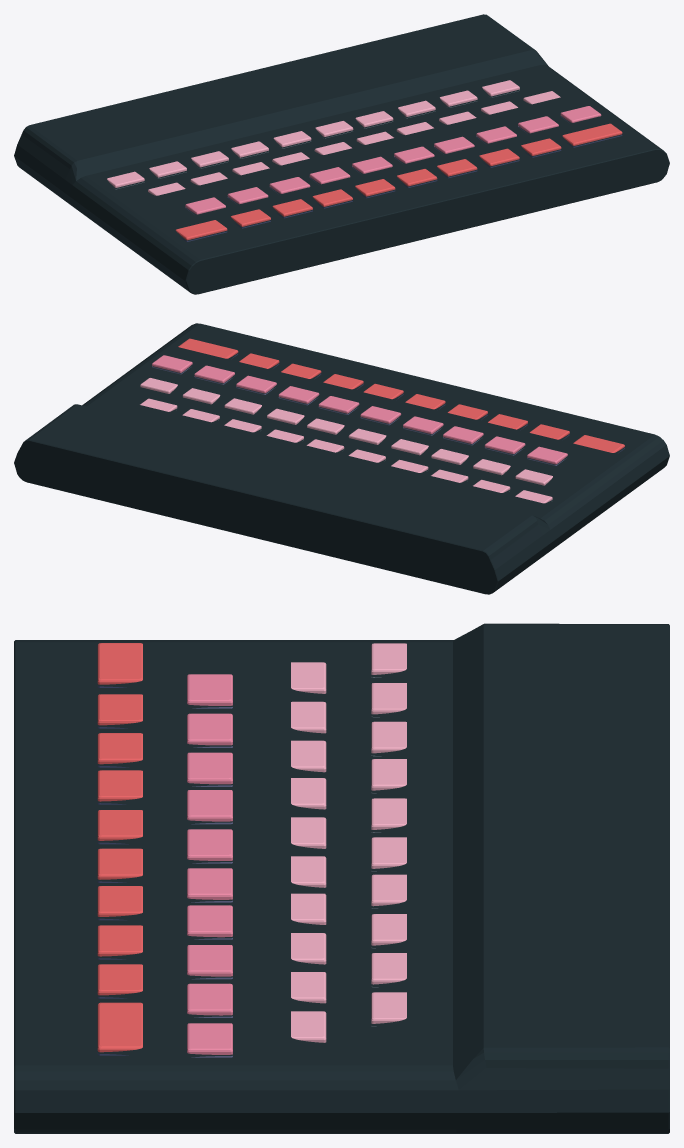
File: Spectrum.fbx
3 renders of one model, top to bottom at view 1: azimuth 30°, elevation 25°; view 2: azimuth 150°, elevation 25°; view 3: azimuth 270°, elevation 25°, orthographic. The views are drawn at different scales.
Parts seen in each view (by area): view 1: spectrum:polySurface1; view 2: spectrum:polySurface1; view 3: spectrum:polySurface1.
Part boxes in pixels (<box>): spectrum:polySurface1: <box>14,14,669,294</box>; spectrum:polySurface1: <box>14,323,669,594</box>; spectrum:polySurface1: <box>14,623,669,1133</box>.
Bounding box in the file's own units: 0.1631 × 0.0145 × 0.1003.
